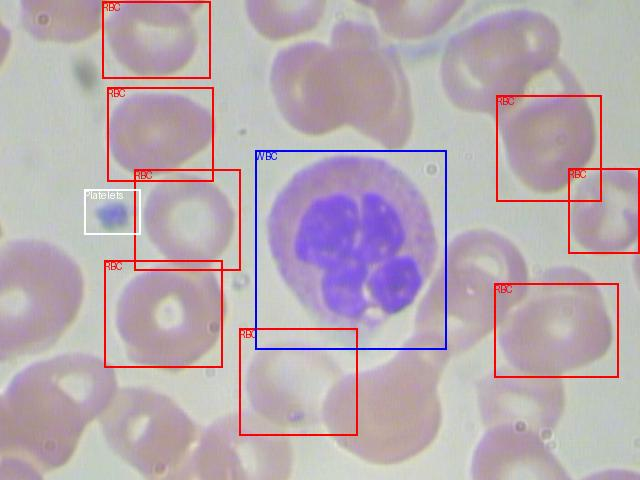Platelets: (84, 189, 140, 234)
RBC: (239, 328, 357, 435), (104, 260, 222, 367), (494, 283, 618, 377), (496, 95, 601, 201), (134, 169, 240, 270), (107, 87, 213, 181), (102, 1, 210, 78), (568, 168, 639, 253)
WBC: (255, 150, 446, 349)
